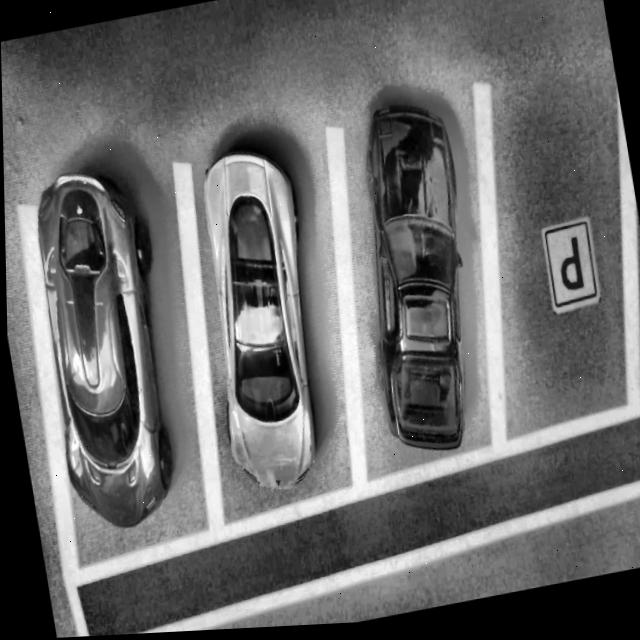car: (18, 158, 192, 540), (334, 97, 498, 467), (181, 142, 338, 502)
